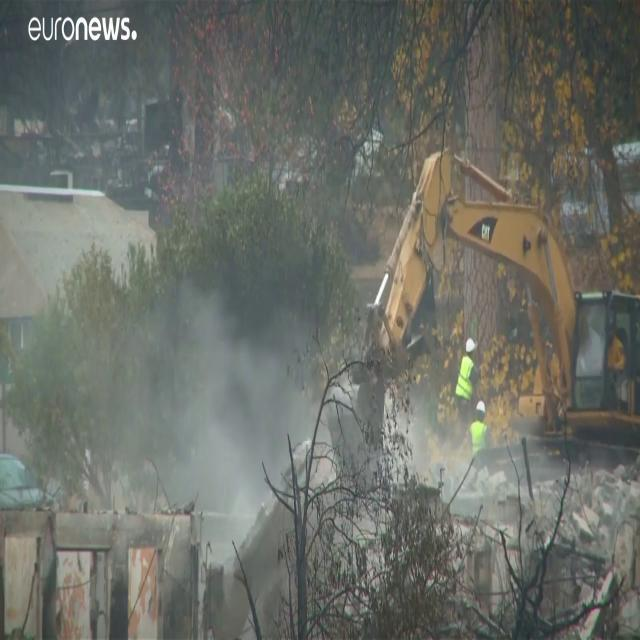Smoke: (0, 158, 374, 580), (382, 342, 640, 558)
